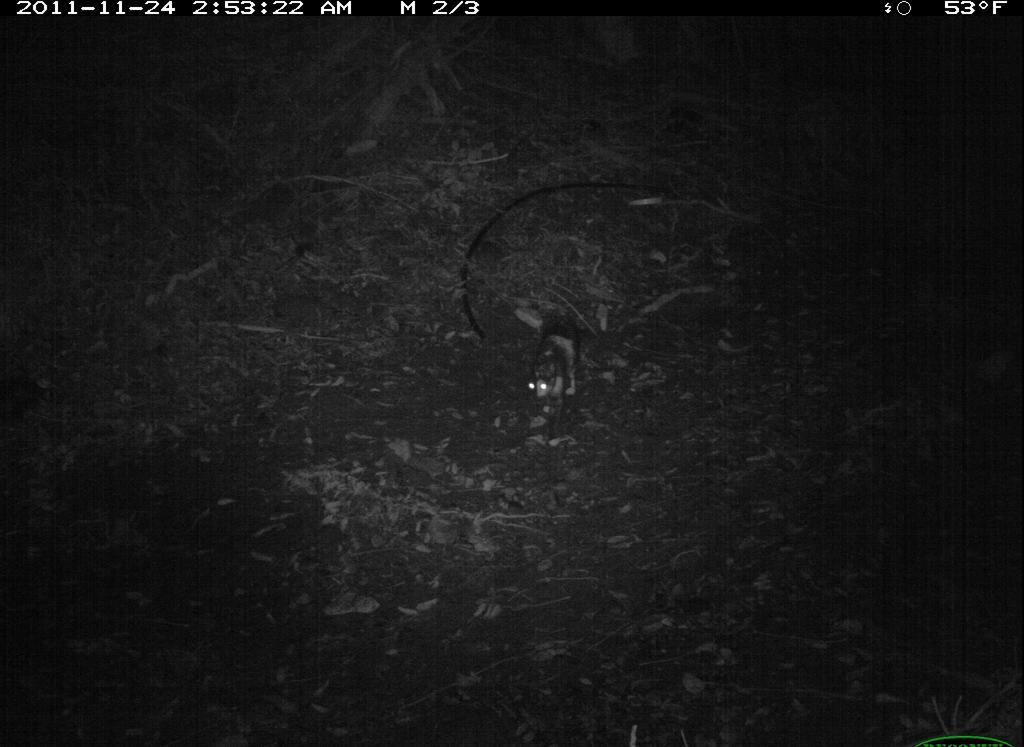cat: (523, 301, 598, 447)
